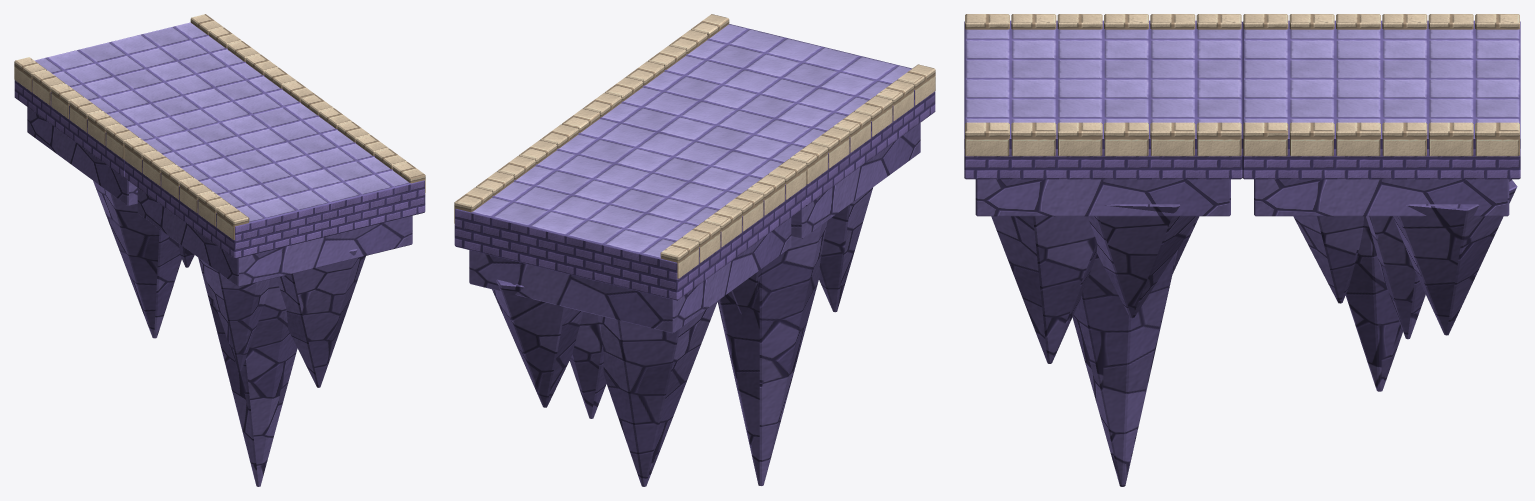
Rendered from Camino_Recto_1x2.fbx.
3 renders of one model, left to right at view 1: azimuth 30°, elevation 25°; view 2: azimuth 150°, elevation 25°; view 3: azimuth 270°, elevation 25°, orthographic. The views are drawn at different scales.
Visible parts, largest first — view 1: Mod_Camino_Recto_1x2; view 2: Mod_Camino_Recto_1x2; view 3: Mod_Camino_Recto_1x2.
Part boxes in pixels (x1,y1,x2,y2): Mod_Camino_Recto_1x2: [14, 14, 425, 486]; Mod_Camino_Recto_1x2: [454, 14, 935, 486]; Mod_Camino_Recto_1x2: [964, 14, 1520, 486].
Size of the model in its own units: 6.04 by 9.96 by 12.
